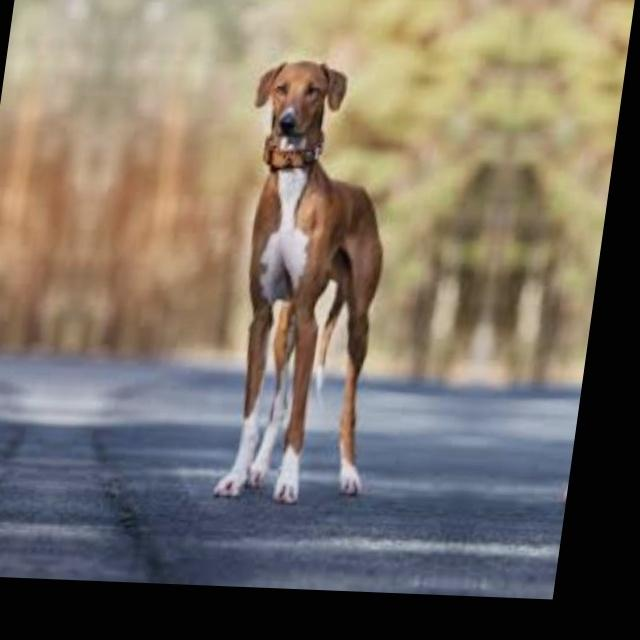dog: (172, 47, 460, 518), (523, 62, 626, 524)
